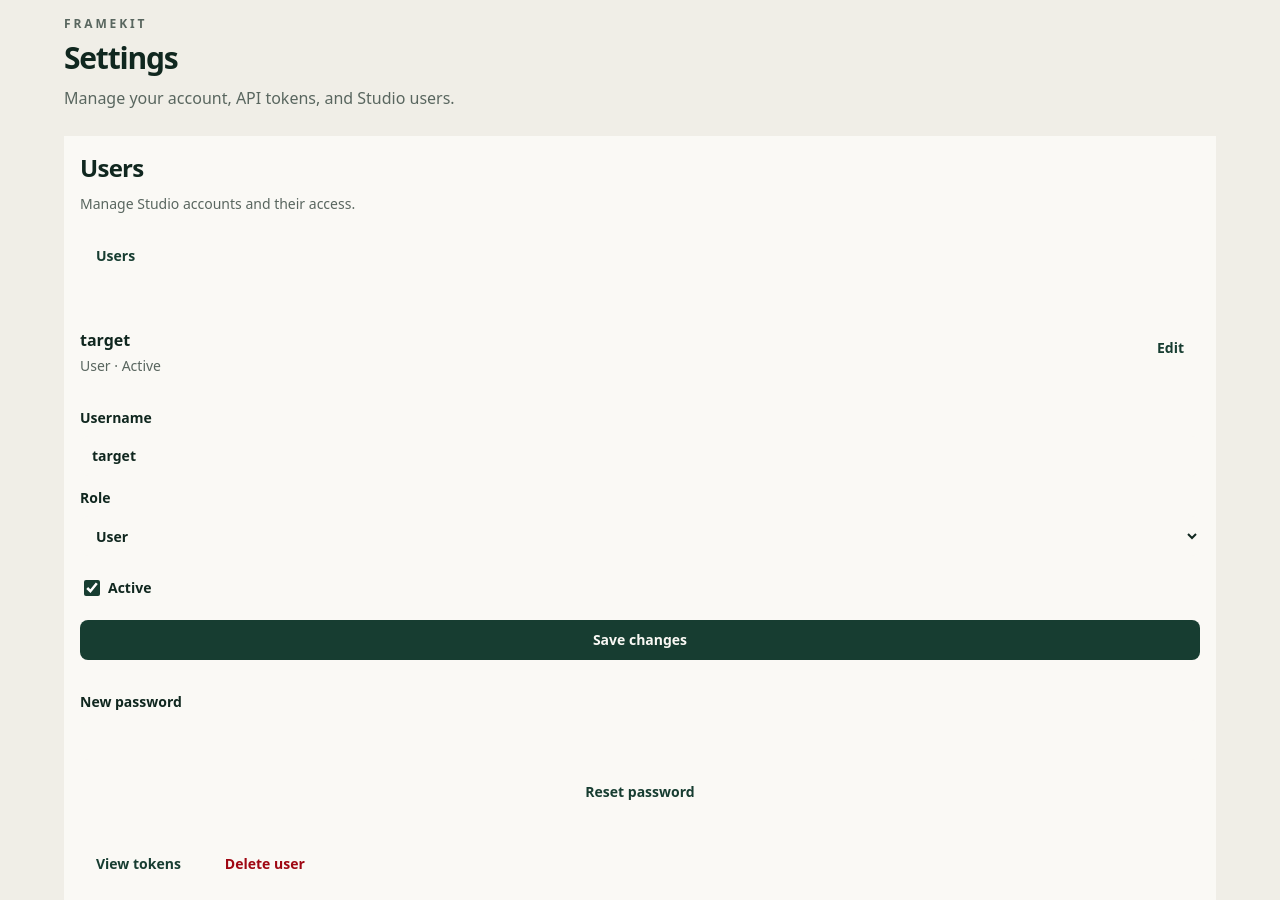
Scenario: FrameKitStudioSettings administrator workflows › loads only the selected user for the dedicated edit route and reuses its mutations
This screenshot has width=1280, height=900.
Expected: the heading "target" is shown, [80, 329, 130, 351]
Replace the text in the field labelled "Username" with "updated-target" at x=640, y=456, box [80, 436, 1200, 476]
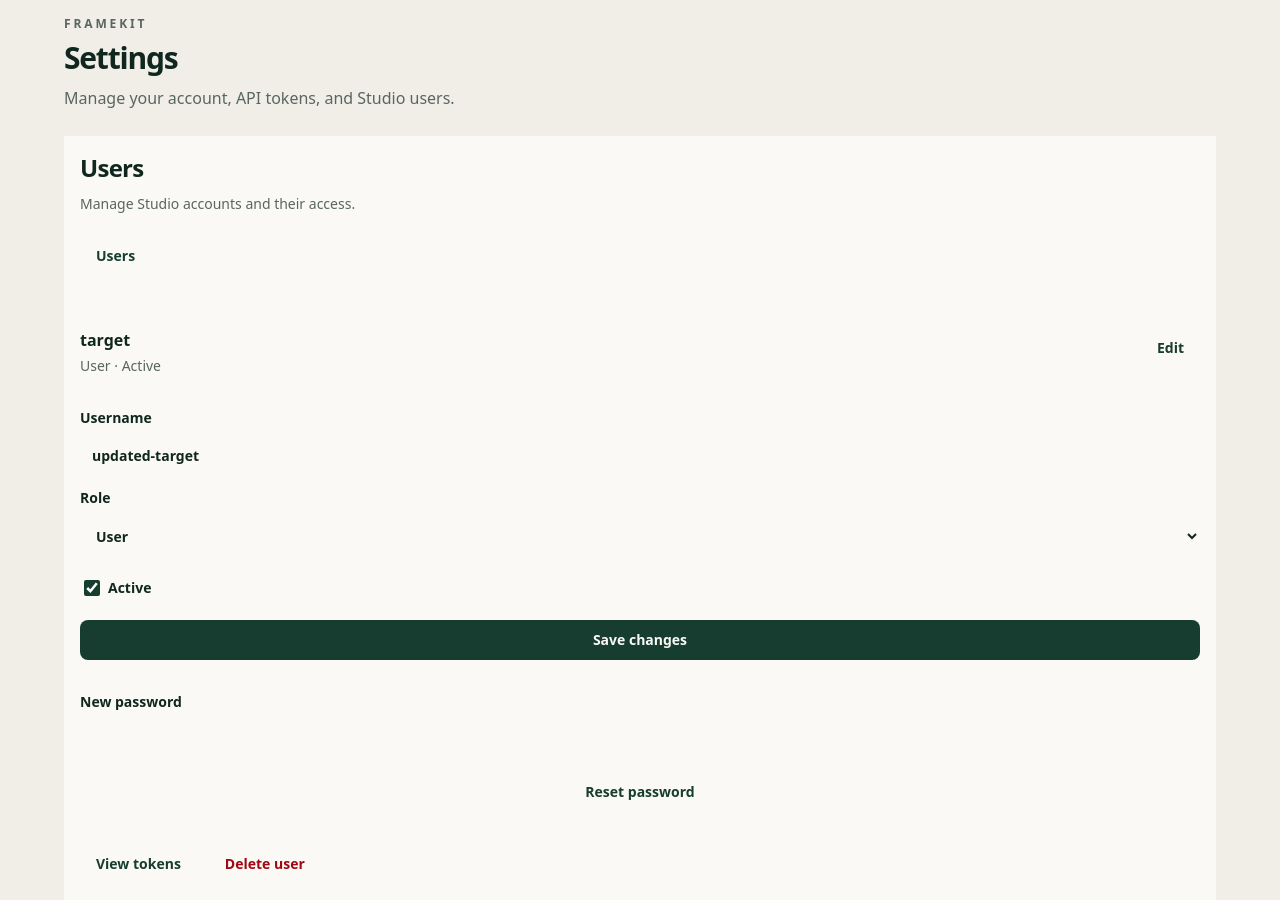
Submit the form "Save changes", box [80, 392, 1200, 660]
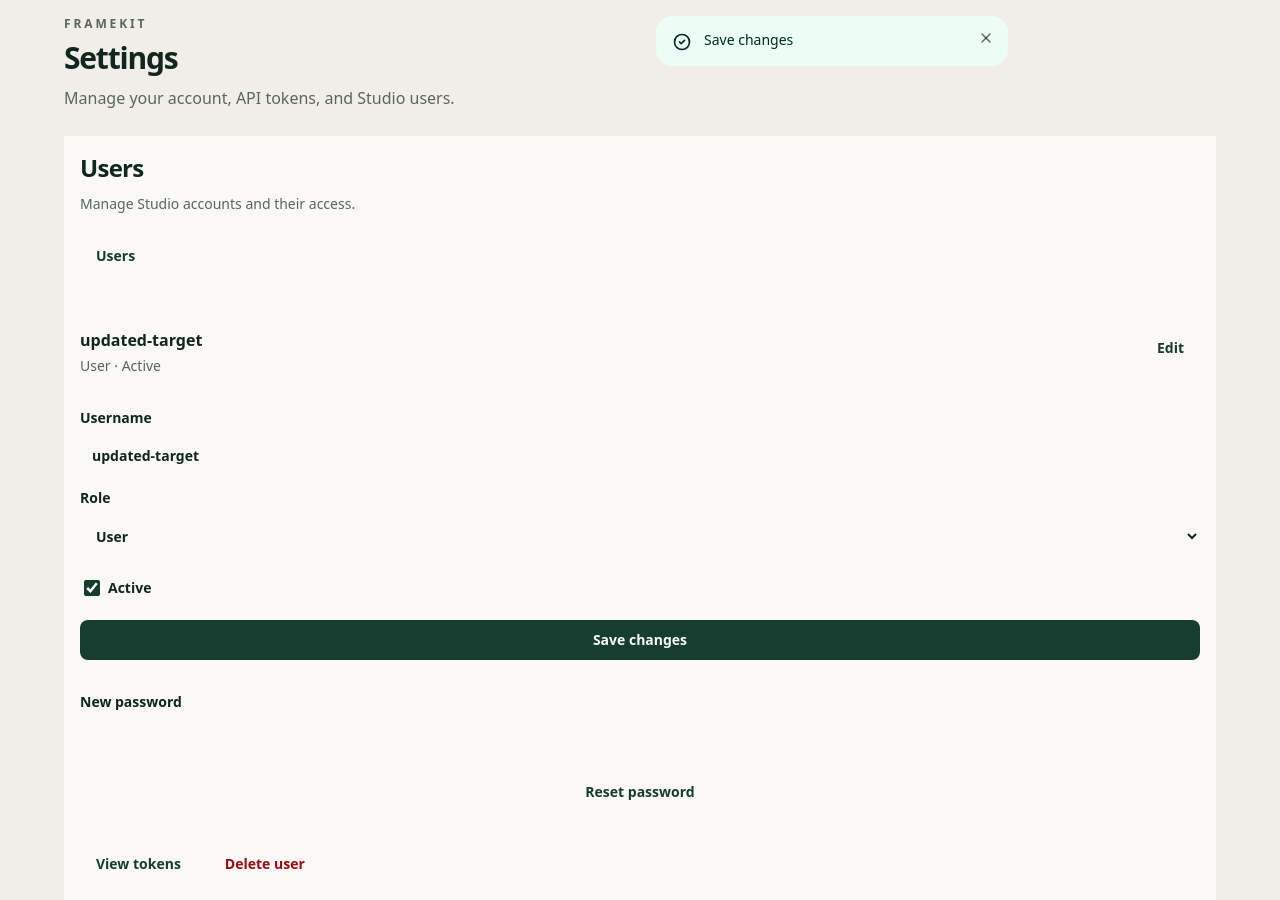
Now the message reads "Save changes", box [704, 30, 793, 49]
Click the button "Delete user" at x=265, y=864, box [209, 844, 321, 884]
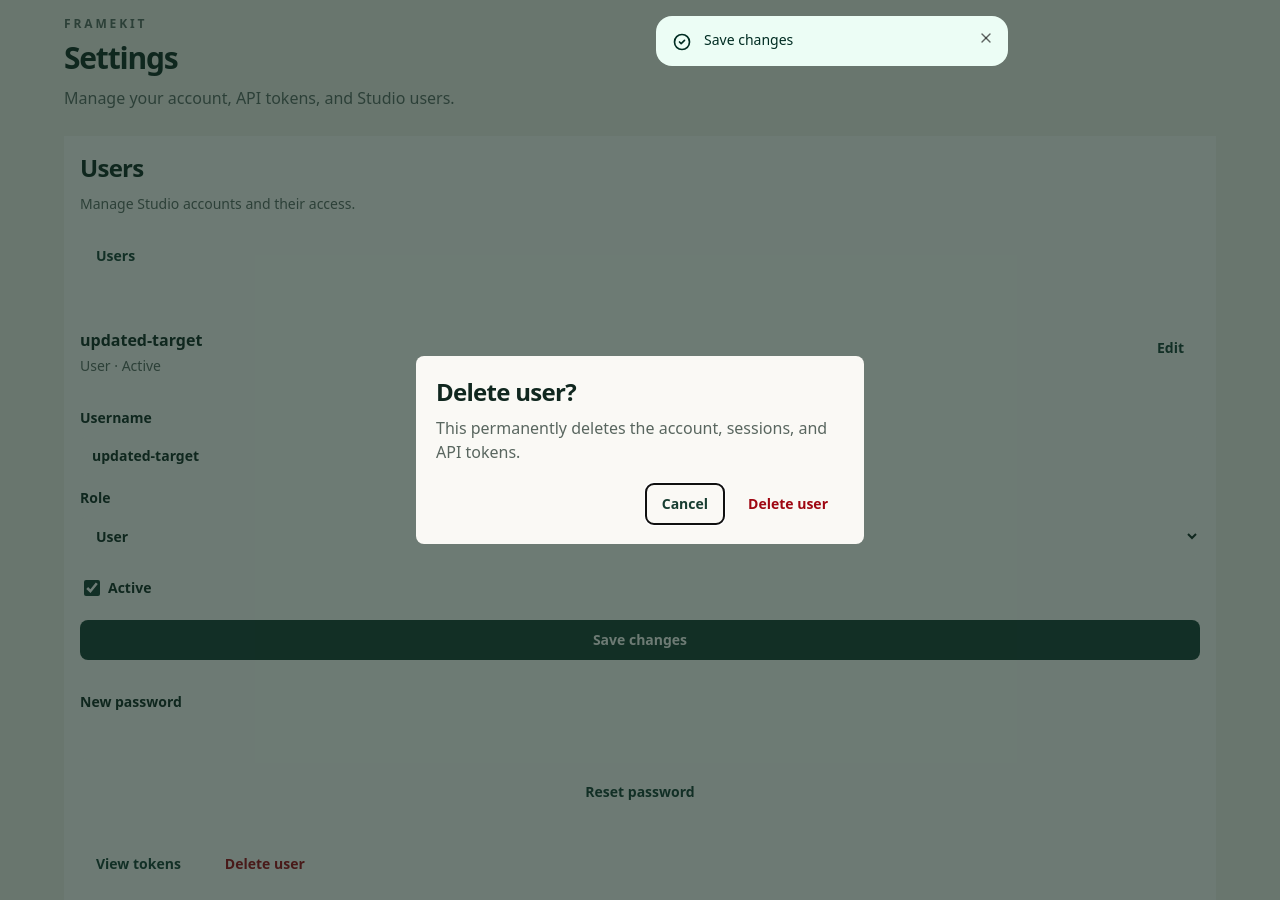
Now the dialog is shown, box [416, 356, 864, 544]
Click the button "Delete user" at x=788, y=504, box [732, 484, 844, 524]
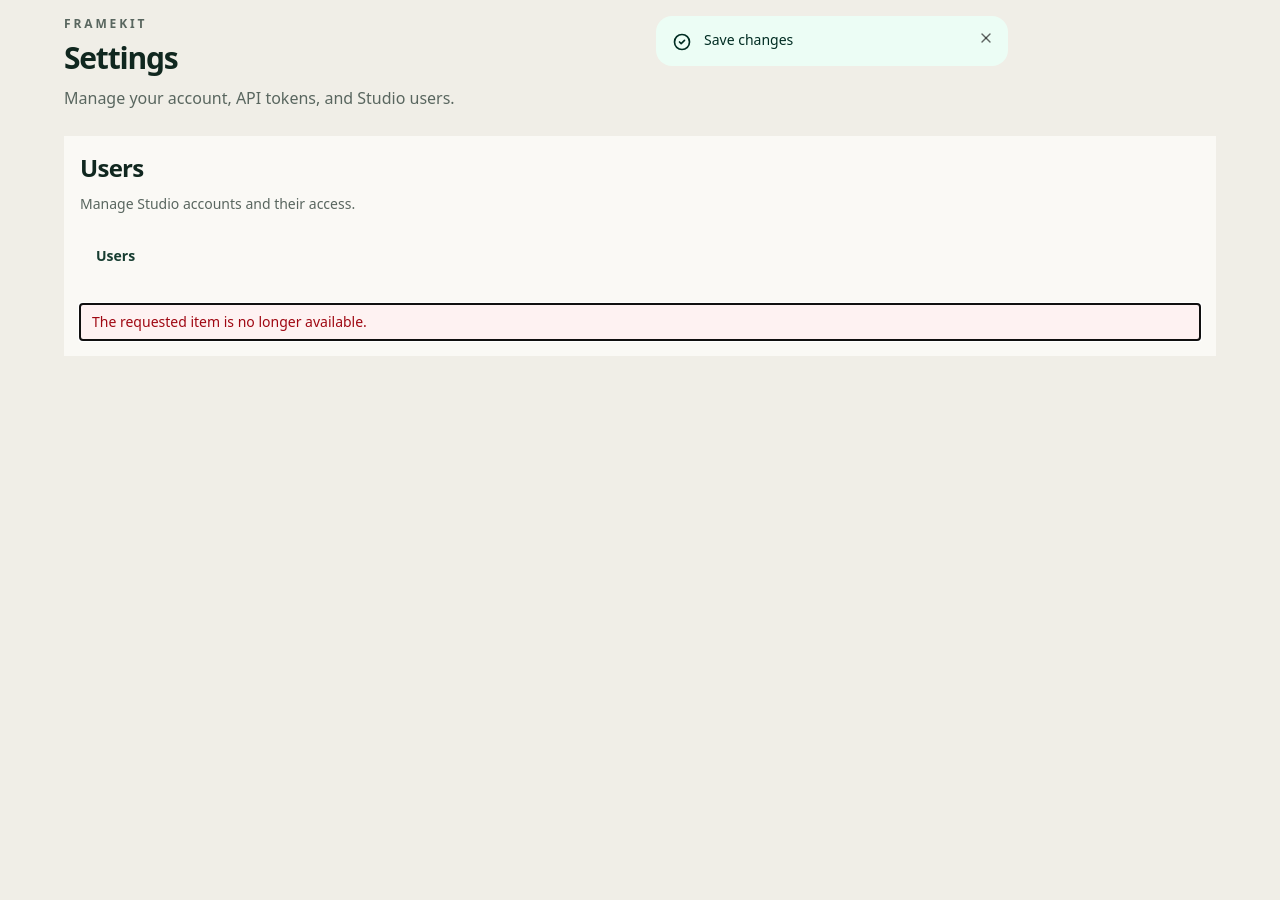
Now the message "The requested item is no longer available." is shown, box [80, 304, 1200, 340]
